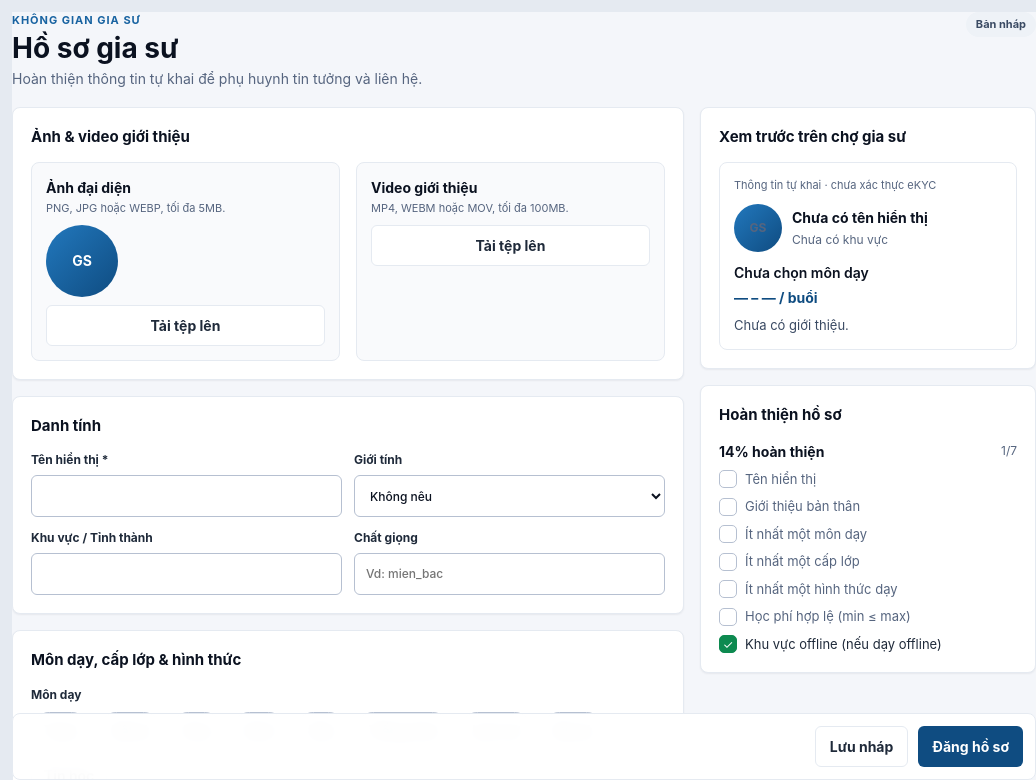
Test: ProfilePage › creates a profile from the bootstrap draft and refreshes the session
Type "Cô Linh" into the field labelled "Tên hiển thị *" at (186, 496), box left=31, top=475, right=342, bottom=517
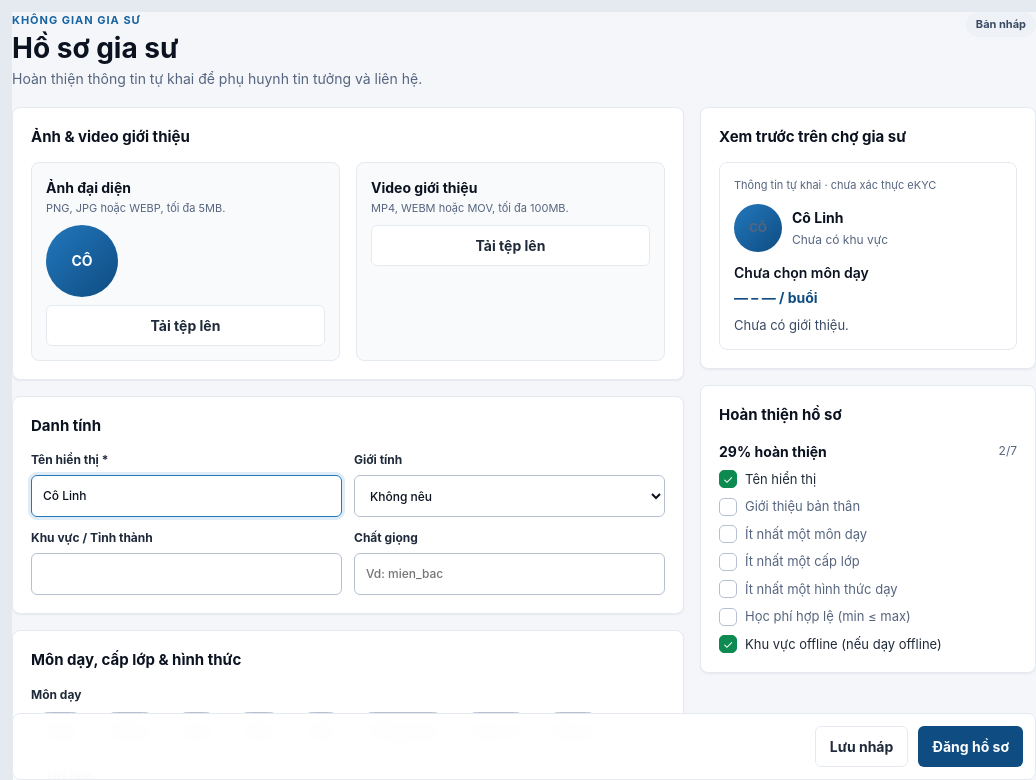
Click the button "Lưu nháp" at (862, 746), box left=815, top=726, right=908, bottom=767
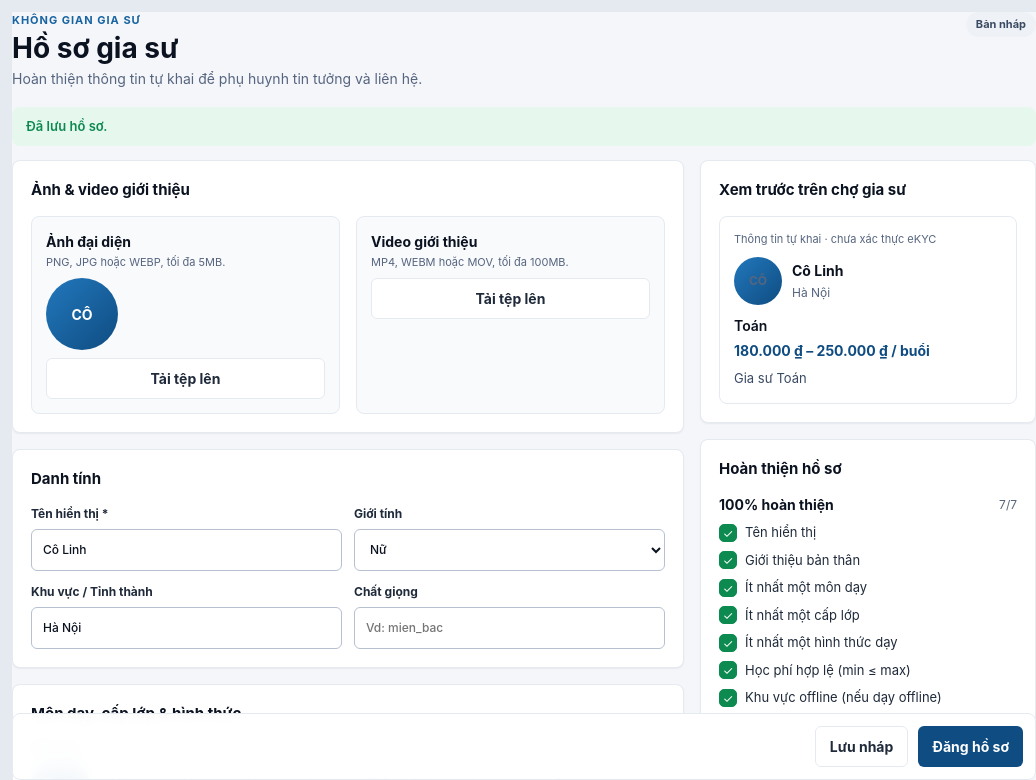
Expected: the text "Đã lưu hồ sơ." is shown, left=12, top=106, right=1035, bottom=146
